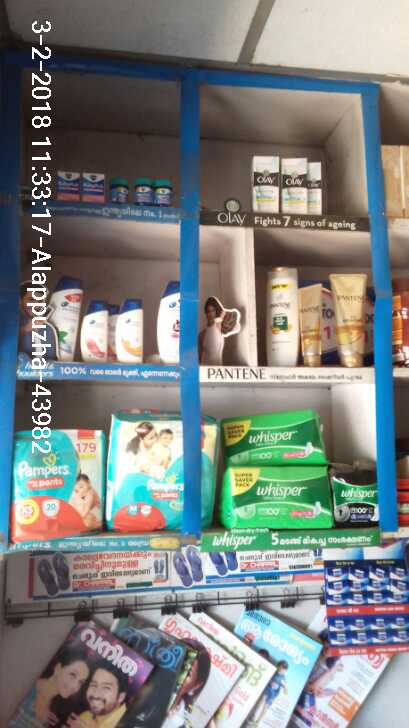vicks: (57, 171, 173, 207)
